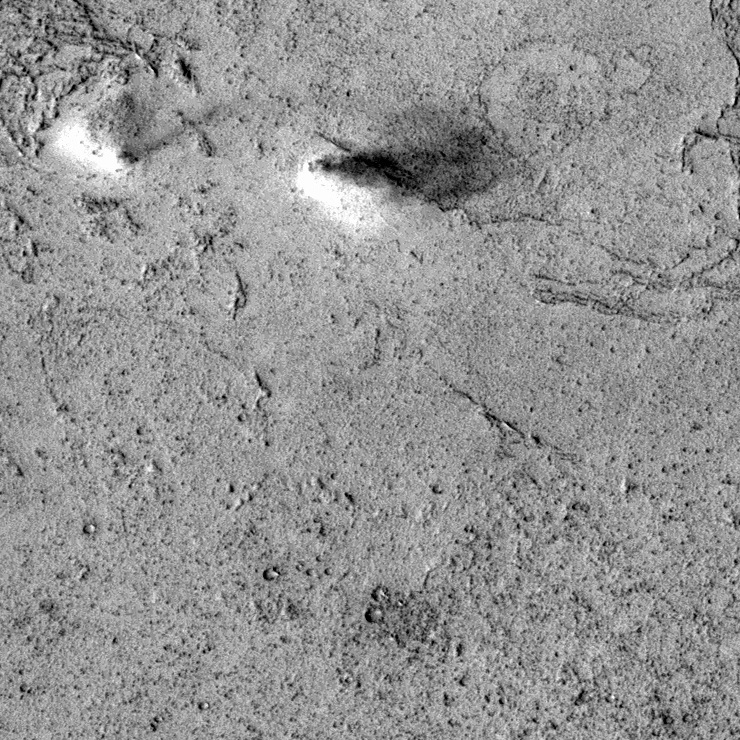dust_devil: (288, 112, 540, 236), (50, 88, 233, 178)
